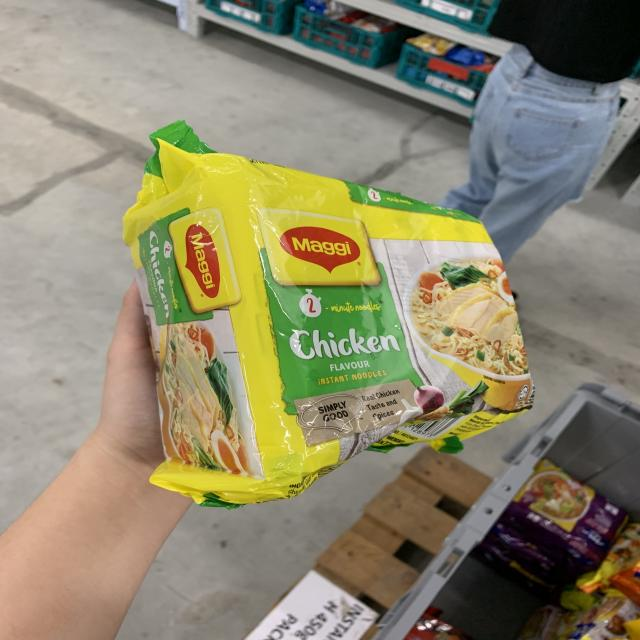object_name: (149, 156, 545, 454)
